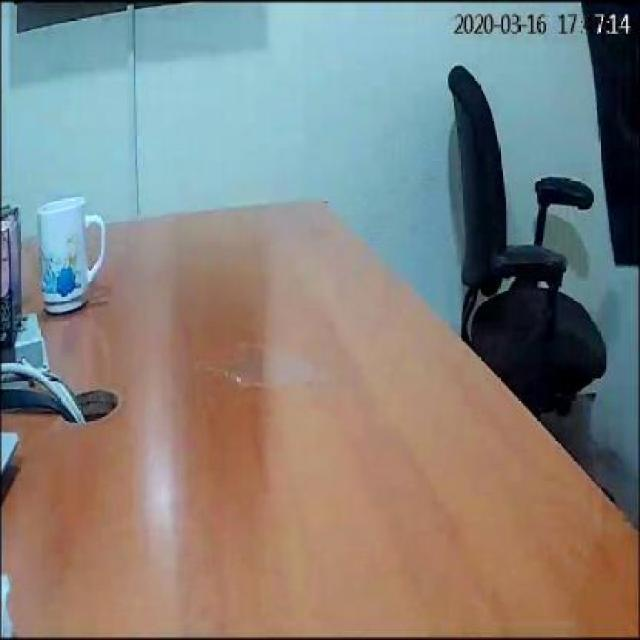spill: (201, 354, 327, 388)
